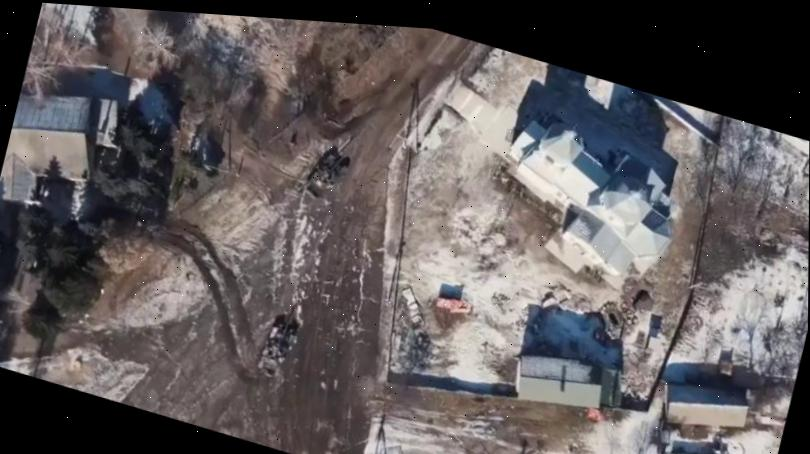tank: (257, 300, 301, 378), (301, 141, 351, 208)
